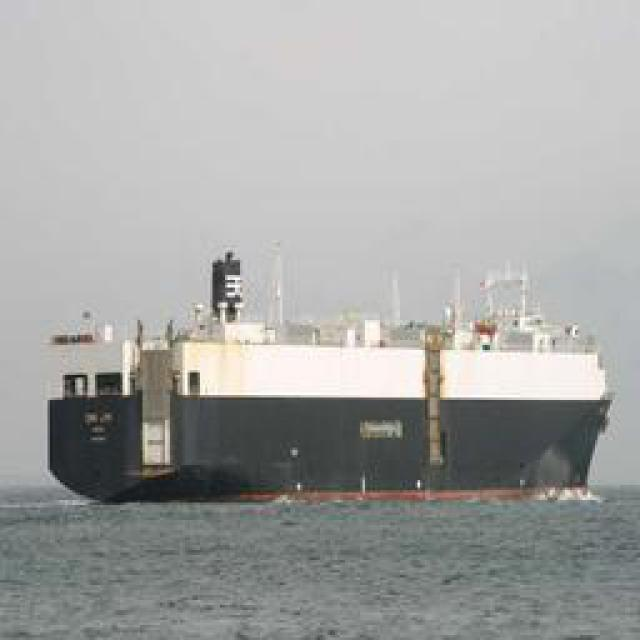Ship: (52, 271, 630, 496)
